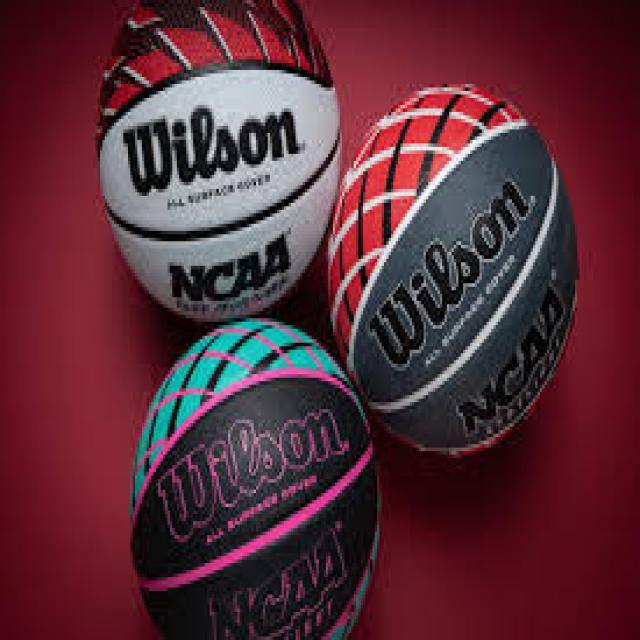basketball: (328, 77, 577, 462), (126, 322, 387, 636), (95, 0, 340, 322)
